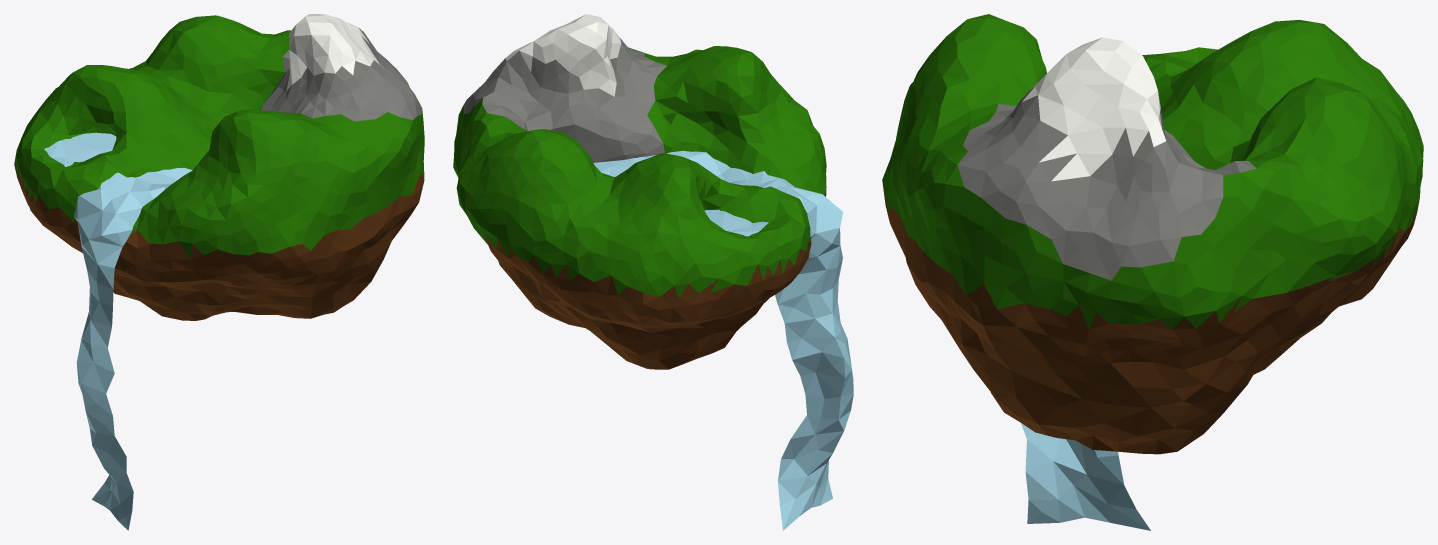
File: Insel (1).fbx
3 views of the same model, side by side, from view 1: azimuth 30°, elevation 25°; view 2: azimuth 150°, elevation 25°; view 3: azimuth 270°, elevation 25° (orthographic). The views are drawn at different scales.
Visible parts, largest first — view 1: Icosphere.002, Icosphere.001, Plane, Icosphere.003, Icosphere.004; view 2: Icosphere.002, Plane, Icosphere.001, Icosphere.003, Icosphere.004; view 3: Icosphere.002, Icosphere.001, Icosphere.003, Icosphere.004, Plane.
Part boxes in pixels (x1,y1,x2,y2): Icosphere.002: (14,15,424,259); Icosphere.001: (17,166,424,320); Plane: (44,132,192,530); Icosphere.003: (259,27,421,121); Icosphere.004: (286,14,388,91); Icosphere.002: (453,46,826,297); Plane: (593,150,853,530); Icosphere.001: (484,189,826,369); Icosphere.003: (463,38,666,162); Icosphere.004: (505,14,621,96); Icosphere.002: (882,14,1423,328); Icosphere.001: (882,154,1421,454); Icosphere.003: (957,87,1256,280); Icosphere.004: (1022,37,1166,181); Plane: (1021,423,1150,530).
Size of what is drawn, in the model's own units: 2644 by 3121 by 2418.
